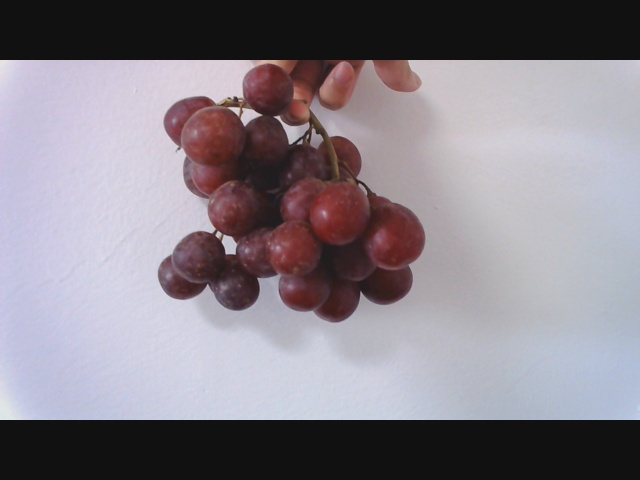grape: (141, 78, 436, 330)
